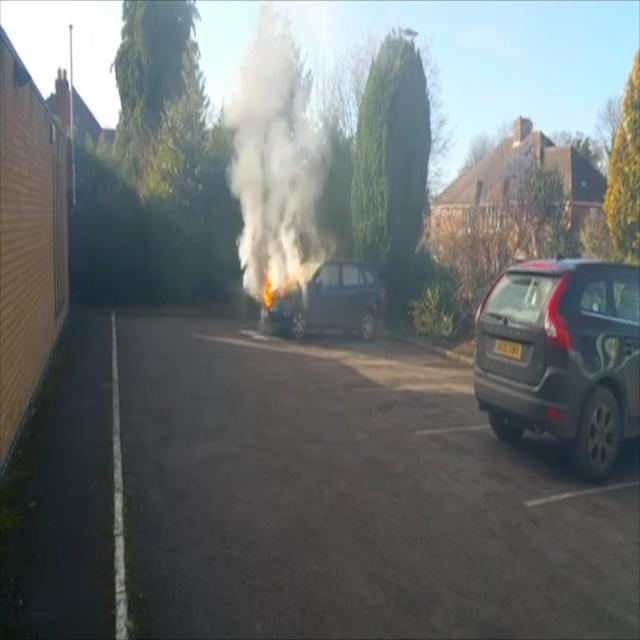fire: (256, 245, 314, 314)
